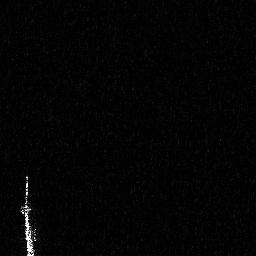ship: (19, 172, 42, 256)
